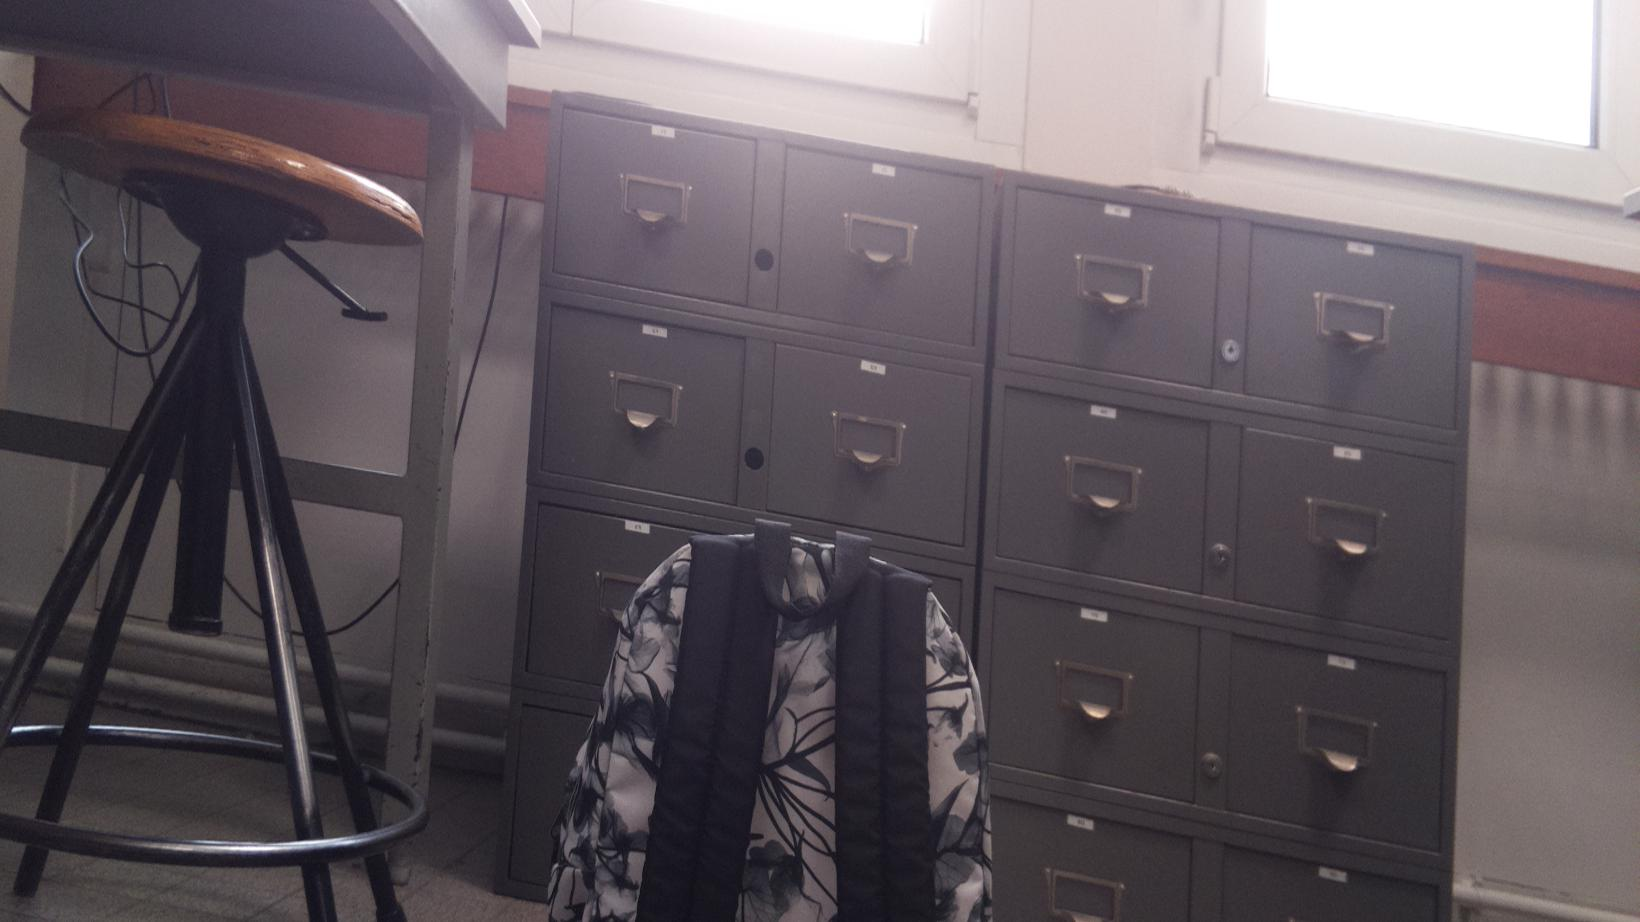big: (537, 509, 1007, 922)
